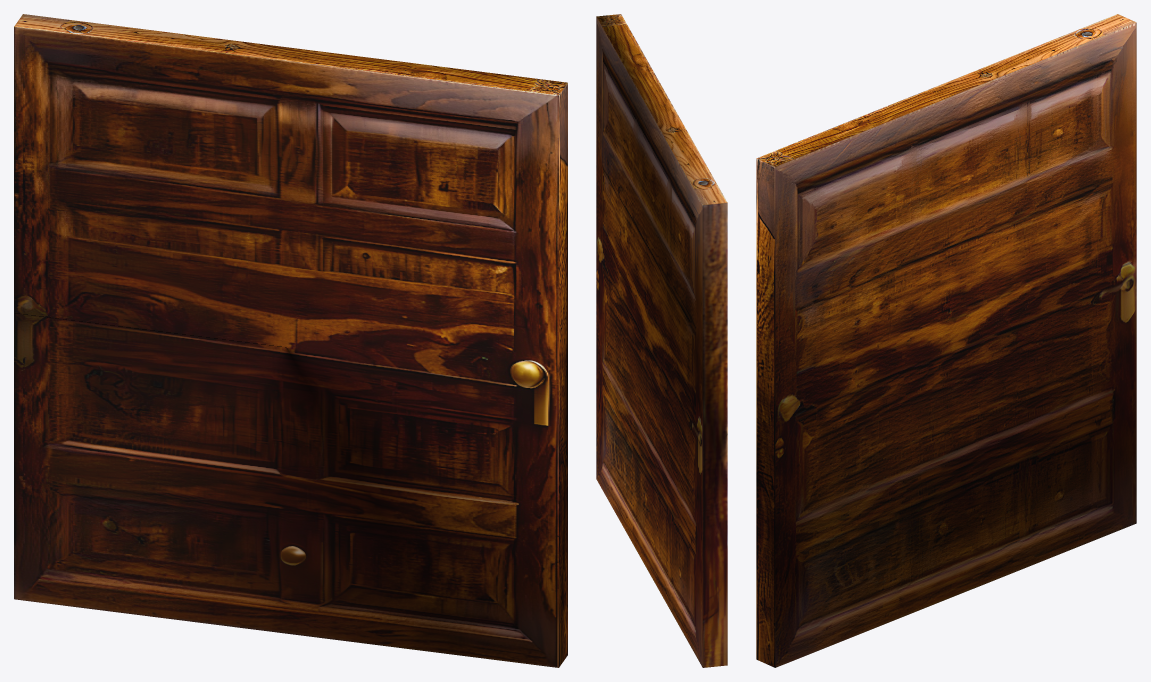
File: cabinetdoor.glb
3 renders of one model, left to right at view 1: azimuth 30°, elevation 25°; view 2: azimuth 150°, elevation 25°; view 3: azimuth 270°, elevation 25°, orthographic. The views are drawn at different scales.
Size of the model in its own units: 6.55 by 10 by 6.88.
Materials: 1 (1 with a texture image).
